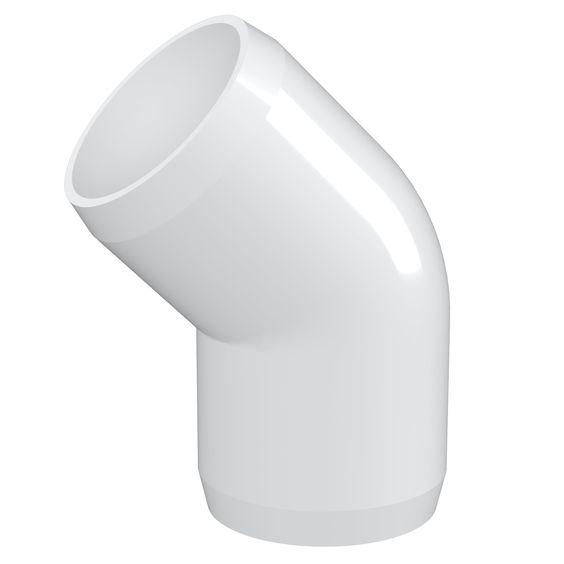PVC: (1, 0, 564, 564)
